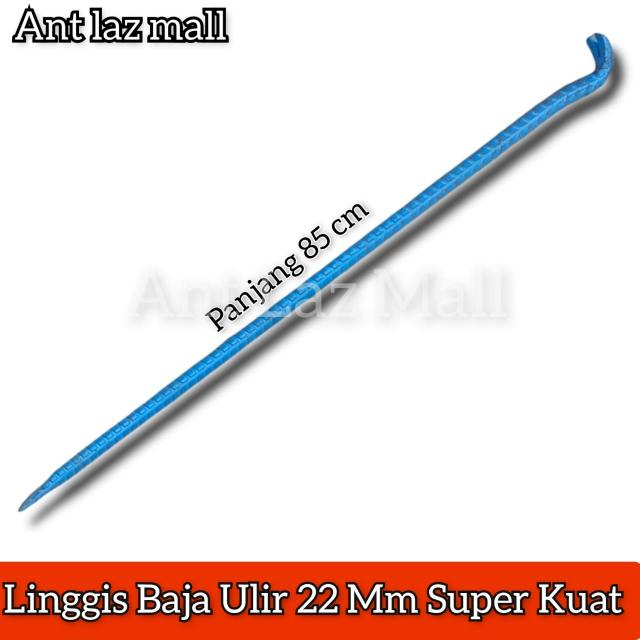crow bar: (15, 25, 622, 525)
